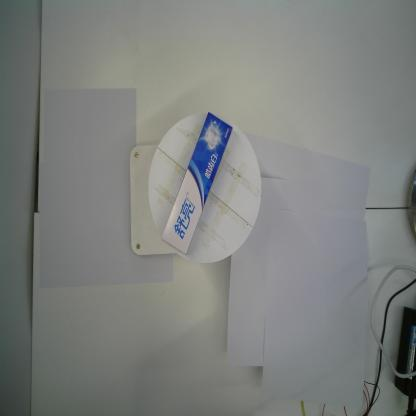Personal Hygiene: (160, 110, 233, 256)
